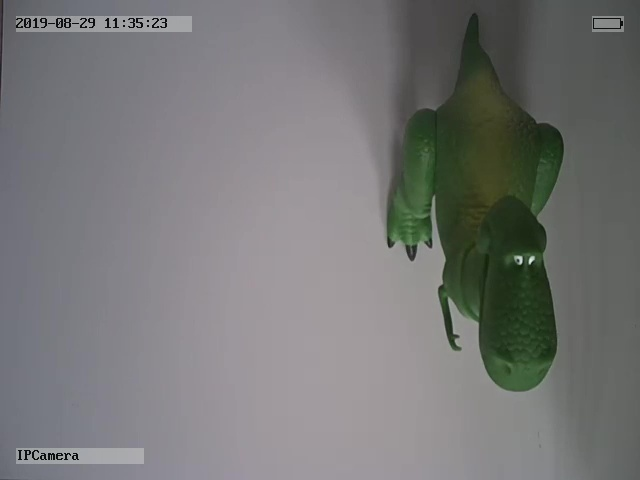rex: (386, 12, 565, 392)
